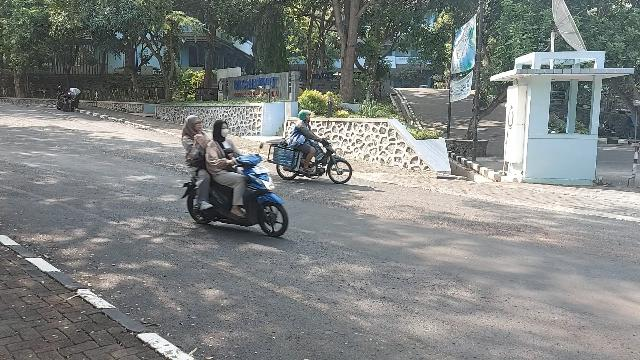helm: (300, 111, 314, 123)
motor: (183, 144, 289, 239), (278, 138, 353, 185)
non-helm: (187, 117, 204, 132), (215, 121, 230, 137)
